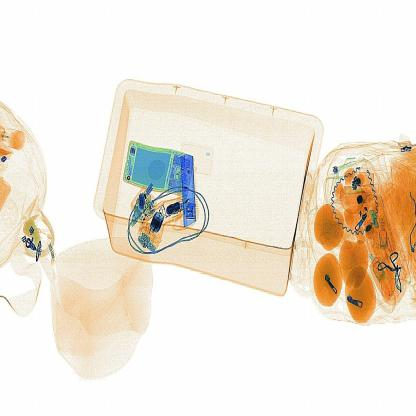pliers: (172, 145, 209, 230)
